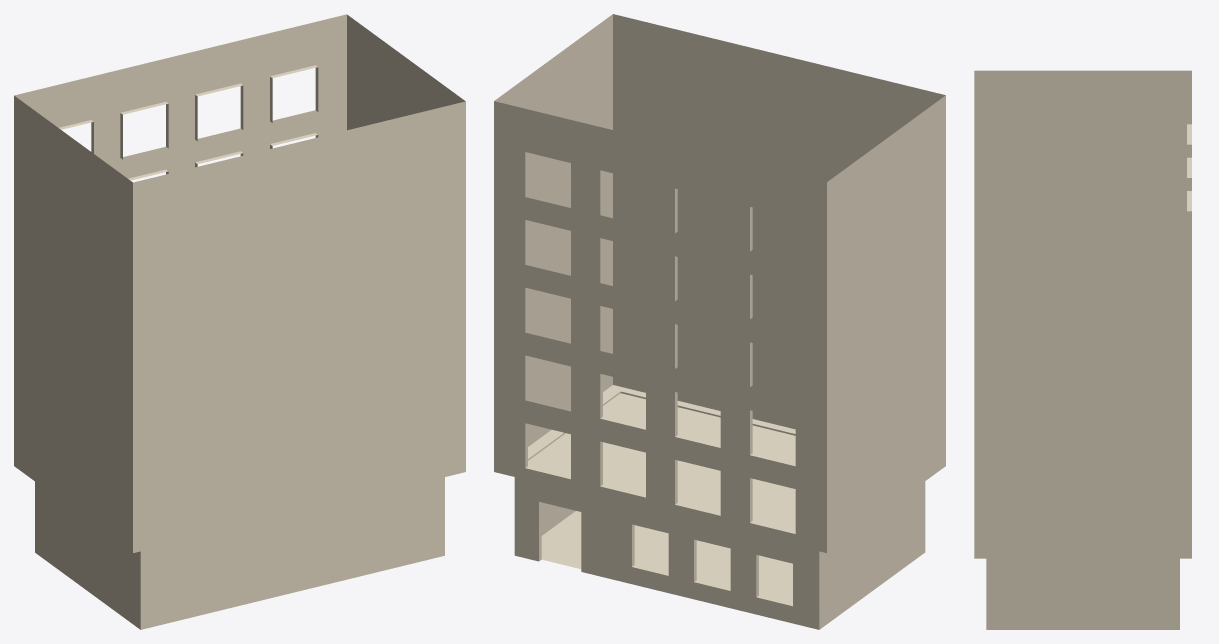
Rendered from Bld_C_high_L3_A.fbx.
The picture shows the model from 3 angles, left to right: view 1: azimuth 30°, elevation 25°; view 2: azimuth 150°, elevation 25°; view 3: azimuth 270°, elevation 25°; orthographic projection. The views are drawn at different scales.
Parts seen in each view (by area): view 1: Bld_C_high_L3_A_LOD0; view 2: Bld_C_high_L3_A_LOD0; view 3: Bld_C_high_L3_A_LOD0.
Part boxes in pixels (<box>): Bld_C_high_L3_A_LOD0: <box>14,14,465,629</box>; Bld_C_high_L3_A_LOD0: <box>494,14,945,629</box>; Bld_C_high_L3_A_LOD0: <box>974,70,1191,629</box>.
Size of what is drawn, in the model's own units: 2100 by 3298 by 1376.
Materials: 1 (1 with a texture image).
